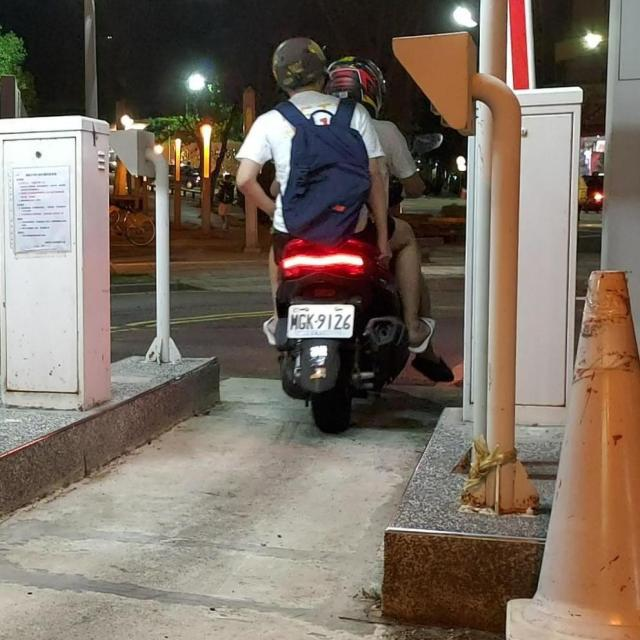W: (283, 299, 356, 340)
